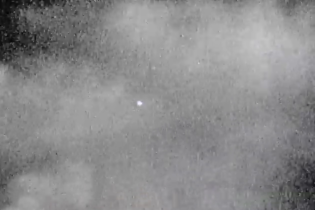Target: (138, 102, 143, 106)
